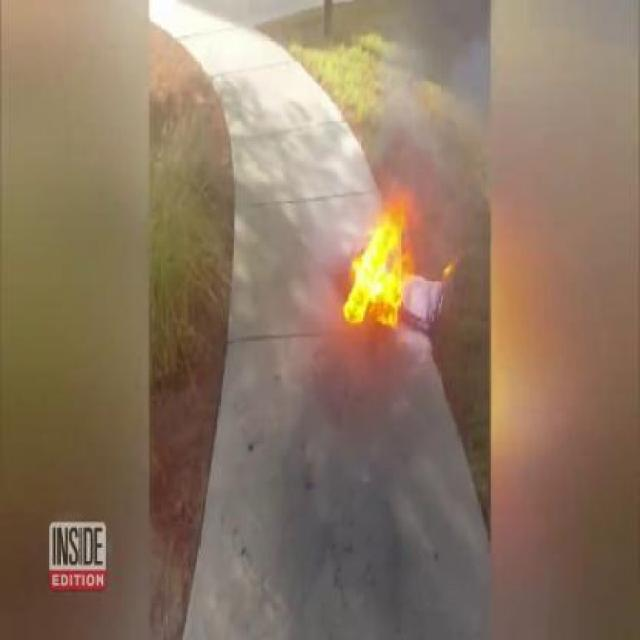fire: (338, 222, 430, 336)
smoke: (371, 36, 482, 216)
